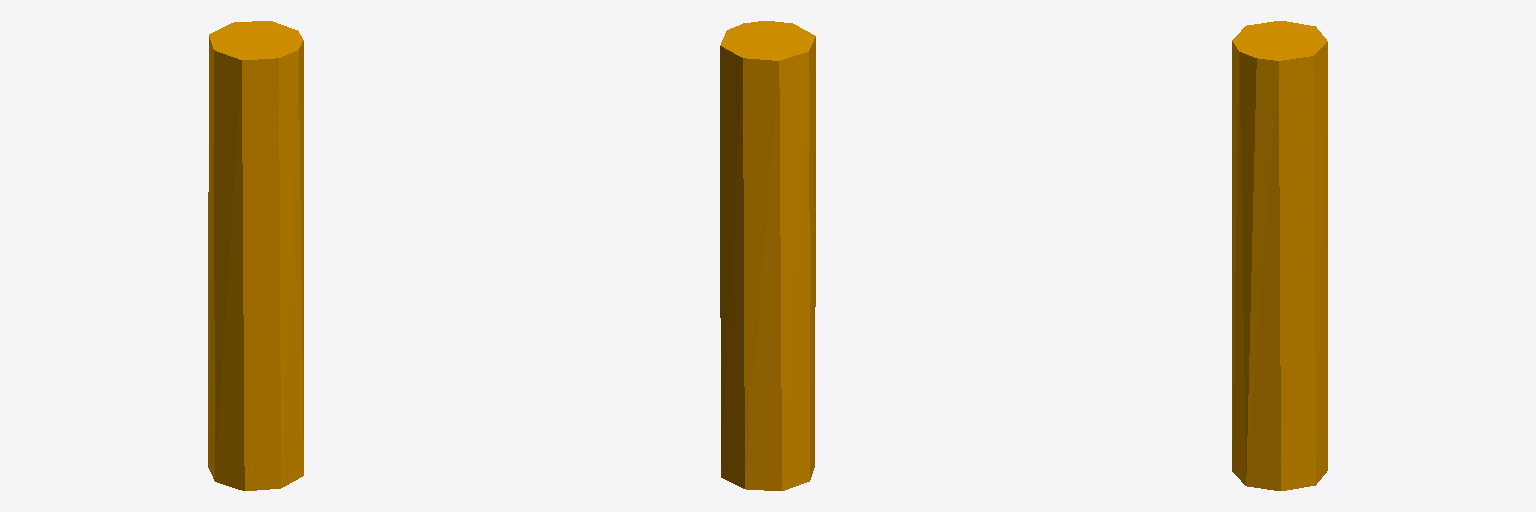
robot.urdf — tree_trunk:
<robot name="tree_trunk">
  <link name="tree_trunk_link">
    <visual>
      <origin xyz="0 0 0" rpy="0 0 0"/>
      <geometry>
        <mesh filename="tree_trunk.obj" scale="1 1 1"/>
      </geometry>
    </visual>
    <collision>
      <origin xyz="0 0 0" rpy="0 0 0"/>
      <geometry>
        <mesh filename="tree_trunk.obj" scale="1 1 1"/>
      </geometry>
    </collision>
  </link>
</robot>

--- Facts derived from the render (not from the file) ---
Views: 3 orthographic renders of the robot side by side, from view 1: azimuth 30°, elevation 25°; view 2: azimuth 150°, elevation 25°; view 3: azimuth 270°, elevation 25°.
Model tree_trunk with 1 links and 0 joints (none), rooted at tree_trunk_link, posed all joints at 0.
Links seen in each view (by area): view 1: tree_trunk_link; view 2: tree_trunk_link; view 3: tree_trunk_link.
Link boxes in pixels (x1,y1,x2,y2): tree_trunk_link: [208, 21, 303, 490]; tree_trunk_link: [720, 21, 815, 490]; tree_trunk_link: [1232, 21, 1327, 490].
Bounding box of the posed robot: 2.02 × 2.02 × 10 m (x, y, z).
Meshes: 1 distinct files referenced, 1 mesh visuals loaded (1 OBJ).